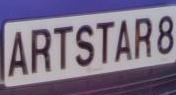1: (51, 23, 74, 76), (96, 17, 114, 71)
4: (113, 13, 133, 69)
8: (155, 9, 176, 65)
A: (7, 24, 30, 82)
R: (26, 23, 55, 80), (133, 11, 154, 62)
S: (74, 22, 99, 72)
T: (51, 23, 74, 76)
